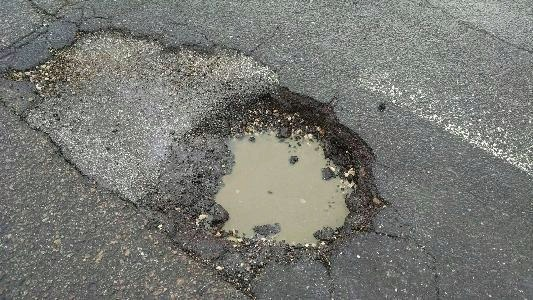pothole: (187, 82, 384, 264)
